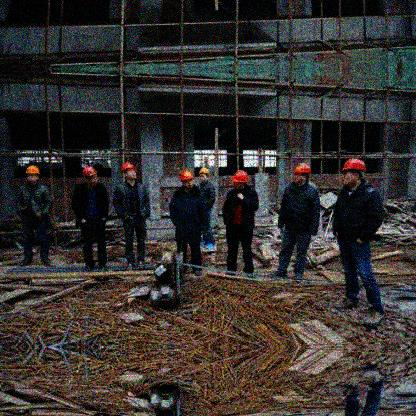helmet: (339, 159, 364, 187), (292, 163, 311, 185), (231, 169, 250, 191), (120, 161, 139, 183), (23, 165, 42, 184), (179, 168, 195, 190), (81, 166, 99, 185), (199, 167, 209, 185)
